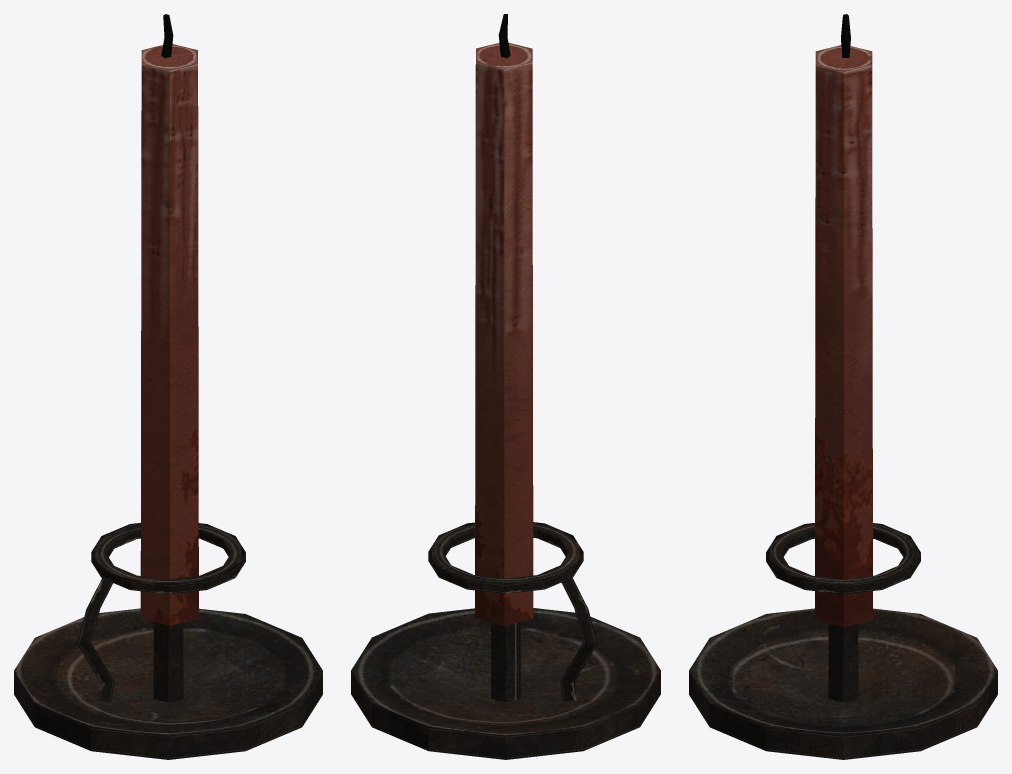
Rendered from candle.obj.
The picture shows the model from 3 angles, left to right: view 1: azimuth 30°, elevation 25°; view 2: azimuth 150°, elevation 25°; view 3: azimuth 270°, elevation 25°; orthographic projection.
Visible parts, largest first — view 1: Church_OBJ_Candle; view 2: Church_OBJ_Candle; view 3: Church_OBJ_Candle.
Boxes of the visible parts, <box> form: Church_OBJ_Candle: <box>14,14,322,759</box>; Church_OBJ_Candle: <box>351,14,660,759</box>; Church_OBJ_Candle: <box>689,14,997,759</box>.
Size of the model in its own units: 29.77 by 75.14 by 29.77.
